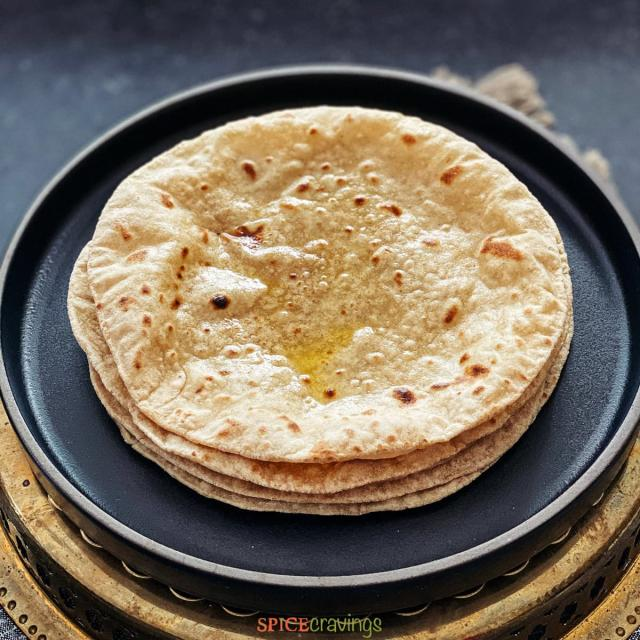ROTI: (73, 108, 573, 455)
